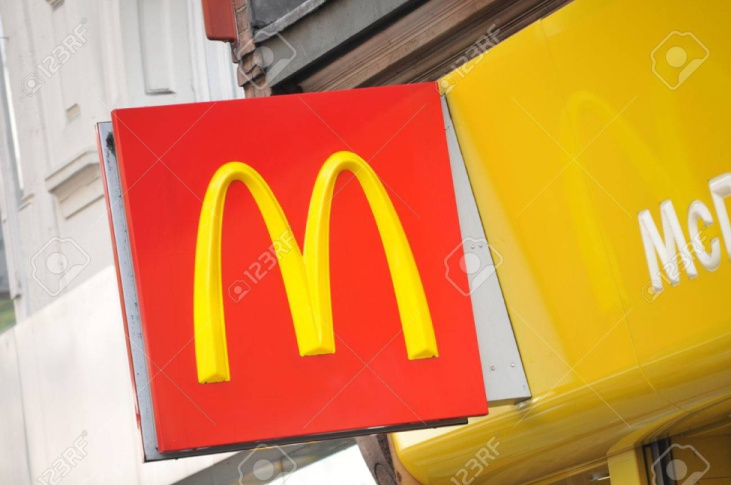mcdonalds: (174, 140, 450, 399)
